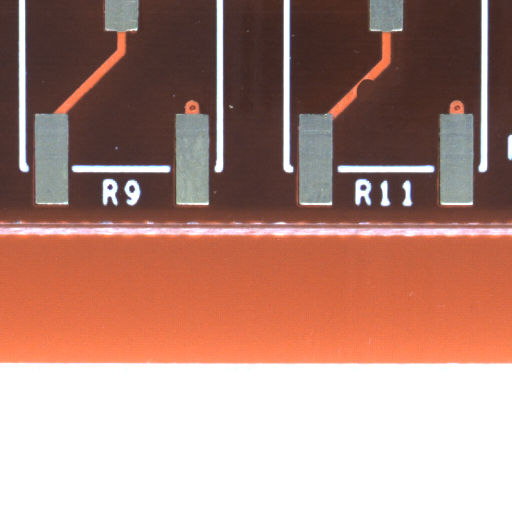Mouse_bite: (365, 88, 392, 117)
